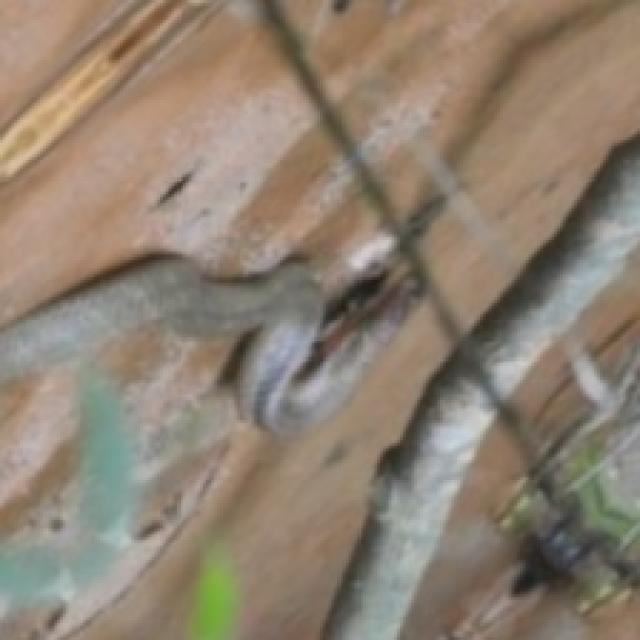king cobra: (0, 0, 637, 637), (0, 369, 129, 554), (3, 303, 109, 374), (86, 480, 129, 520), (126, 489, 160, 534)
